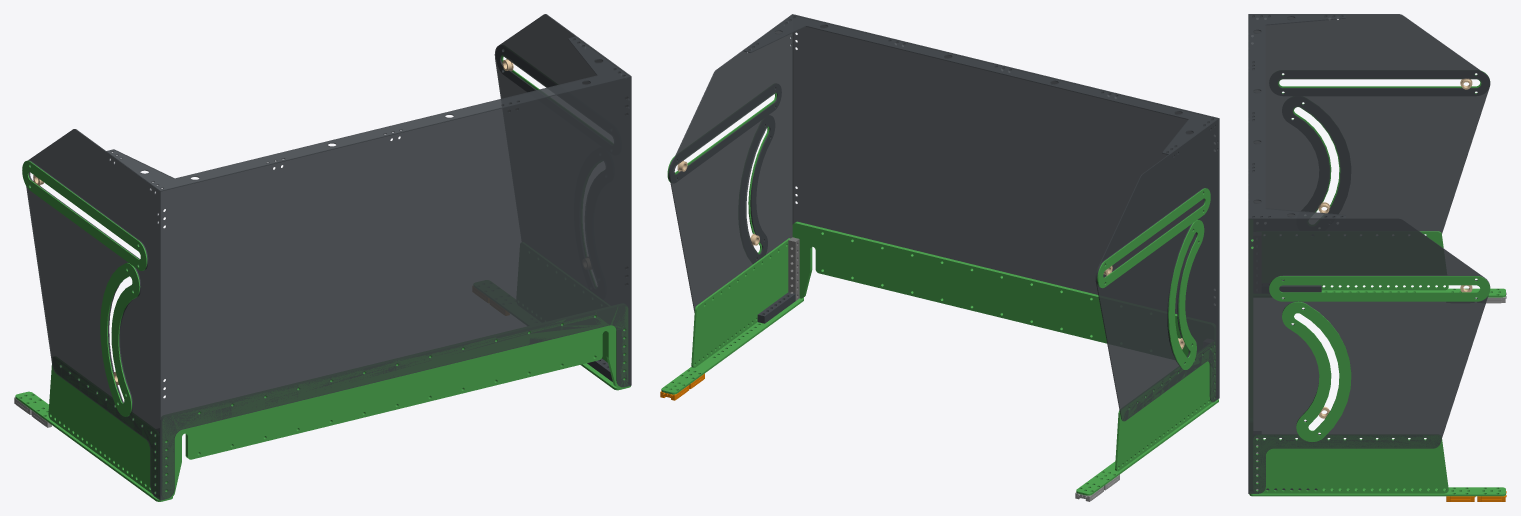
The picture shows the model from 3 angles, left to right: view 1: azimuth 30°, elevation 25°; view 2: azimuth 150°, elevation 25°; view 3: azimuth 270°, elevation 25°; orthographic projection. The views are drawn at different scales.
Visible parts, largest first — view 1: 4201-26-P-0705, 4201-26-P-0701 (×2), 4201-26-P-0704, 4201-26-P-0703, 4201-26-P-0711, 4201-26-P-0708, 4201-26-P-0709, 4201-26-P-0702; view 2: 4201-26-P-0705, 4201-26-P-0701 (×2), 4201-26-P-0704, 4201-26-P-0703 (×2), 4201-26-P-0711, 4201-26-P-0702 (×2), 4201-26-P-0708, 4201-26-P-0709, 4201-26-P-0707, Part 5; view 3: 4201-26-P-0701 (×2), 4201-26-P-0703 (×2), 4201-26-P-0708 (×2), 4201-26-P-0711, 4201-26-P-0709 (×2), 4201-26-P-0706, 4201-26-P-0707, 4201-26-P-0702 (×2), 4201-26-P-0705, Part 3.
Part boxes in pixels (bbox=[...]): 4201-26-P-0705: bbox=[160, 76, 630, 500]; 4201-26-P-0701 (×2): bbox=[26, 14, 631, 500]; 4201-26-P-0704: bbox=[162, 306, 627, 498]; 4201-26-P-0703: bbox=[48, 362, 158, 496]; 4201-26-P-0711: bbox=[106, 36, 629, 190]; 4201-26-P-0708: bbox=[22, 160, 147, 270]; 4201-26-P-0709: bbox=[100, 263, 140, 416]; 4201-26-P-0702: bbox=[15, 391, 172, 501]; 4201-26-P-0705: bbox=[792, 14, 1218, 313]; 4201-26-P-0701 (×2): bbox=[669, 14, 1219, 421]; 4201-26-P-0704: bbox=[792, 221, 1188, 356]; 4201-26-P-0703 (×2): bbox=[691, 238, 1215, 471]; 4201-26-P-0711: bbox=[743, 14, 1217, 154]; 4201-26-P-0702 (×2): bbox=[661, 297, 1218, 495]; 4201-26-P-0708: bbox=[1097, 188, 1210, 288]; 4201-26-P-0709: bbox=[1168, 220, 1204, 369]; 4201-26-P-0707: bbox=[740, 116, 774, 262]; Part 5: bbox=[788, 237, 799, 300]; 4201-26-P-0701 (×2): bbox=[1248, 14, 1490, 493]; 4201-26-P-0703 (×2): bbox=[1253, 231, 1448, 493]; 4201-26-P-0708 (×2): bbox=[1269, 71, 1490, 301]; 4201-26-P-0711: bbox=[1249, 14, 1345, 218]; 4201-26-P-0709 (×2): bbox=[1282, 103, 1351, 441]; 4201-26-P-0706: bbox=[1269, 71, 1490, 95]; 4201-26-P-0707: bbox=[1282, 97, 1350, 223]; 4201-26-P-0702 (×2): bbox=[1249, 288, 1505, 496]; 4201-26-P-0705: bbox=[1248, 14, 1249, 218]; Part 3: bbox=[1279, 285, 1321, 292].
Size of the model in its own units: 0.7715 by 0.4926 by 0.4076.
